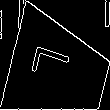L_E: (35, 49, 83, 92)
